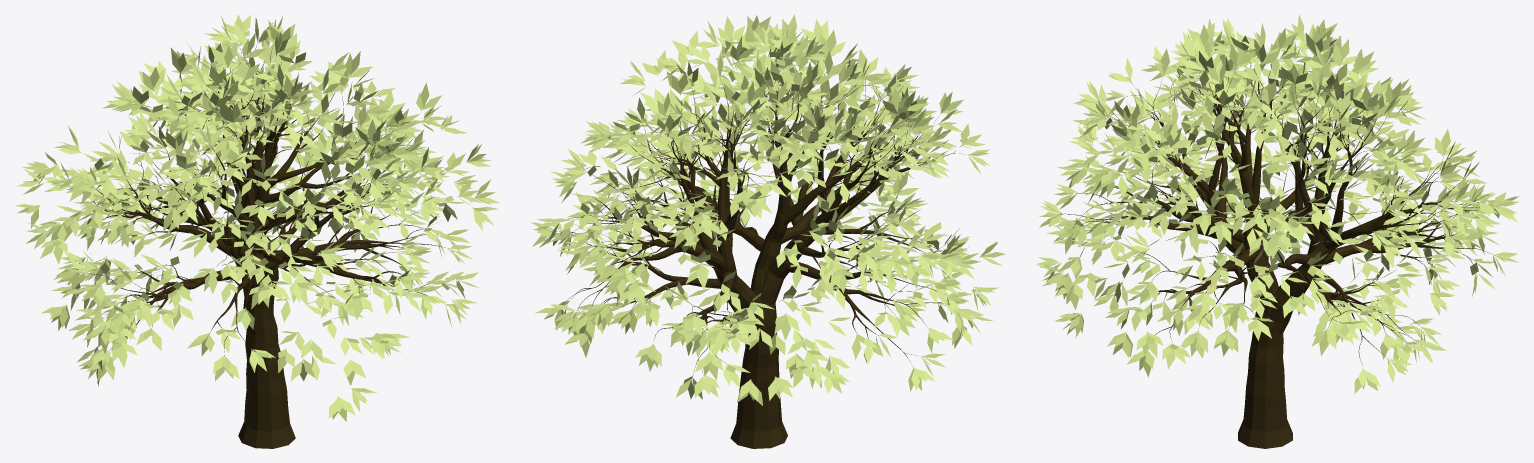
File: Tree3_lod1.fbx
3 renders of one model, left to right at view 1: azimuth 30°, elevation 25°; view 2: azimuth 150°, elevation 25°; view 3: azimuth 270°, elevation 25°, orthographic.
Parts seen in each view (by area): view 1: leaves.001, leaves, tree; view 2: leaves, leaves.001, tree; view 3: leaves, leaves.001, tree.
Boxes of the visible parts, <box> form: leaves.001: <box>14,41,500,421</box>; leaves: <box>44,14,472,386</box>; tree: <box>75,39,448,448</box>; leaves: <box>530,29,989,399</box>; leaves.001: <box>550,14,1005,405</box>; tree: <box>550,58,965,448</box>; leaves: <box>1039,18,1519,393</box>; leaves.001: <box>1035,14,1482,367</box>; tree: <box>1060,54,1494,448</box>.
Bounding box in the file's own units: 1981 × 1753 × 1996.
